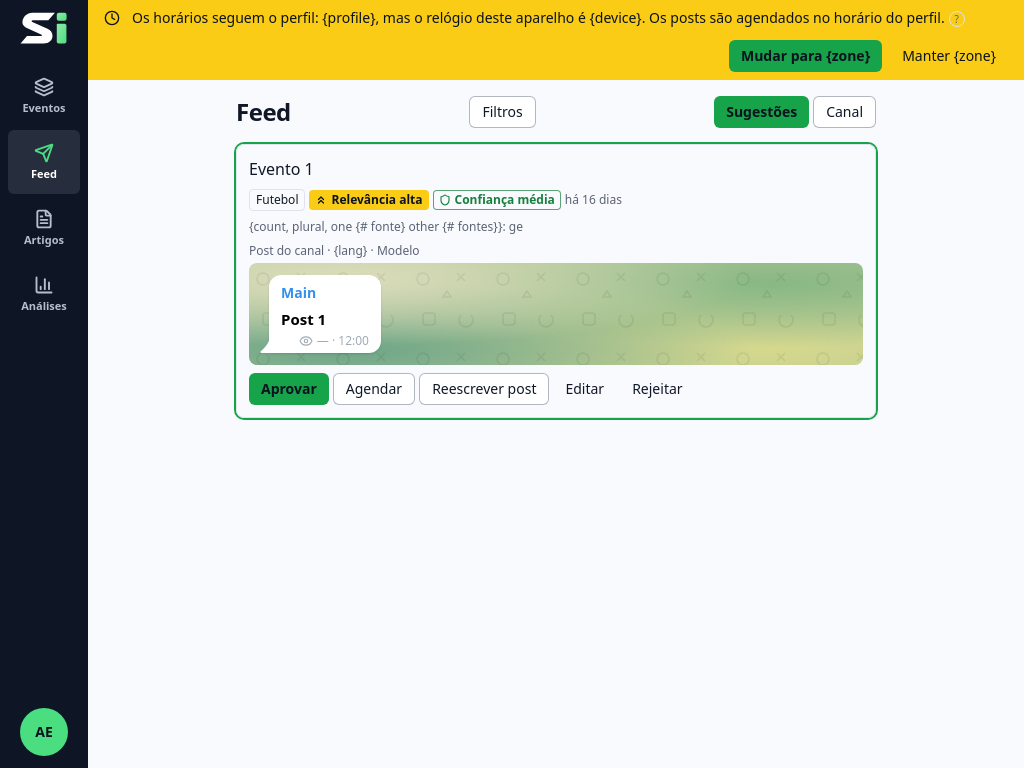
reject opens the dialog; tabs switch the search param; channel shows publish
Click the button "Rejeitar": (657, 389) [620,373,695,405]
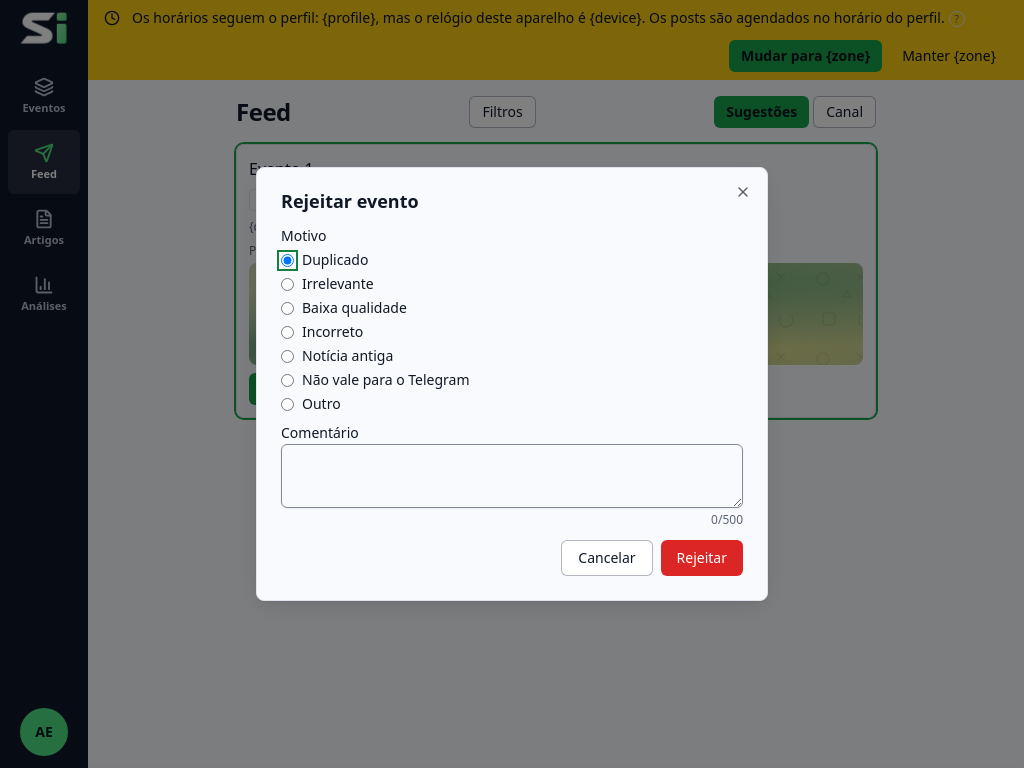
Check: the dialog is shown, box [256,167,768,601]
Press Escape
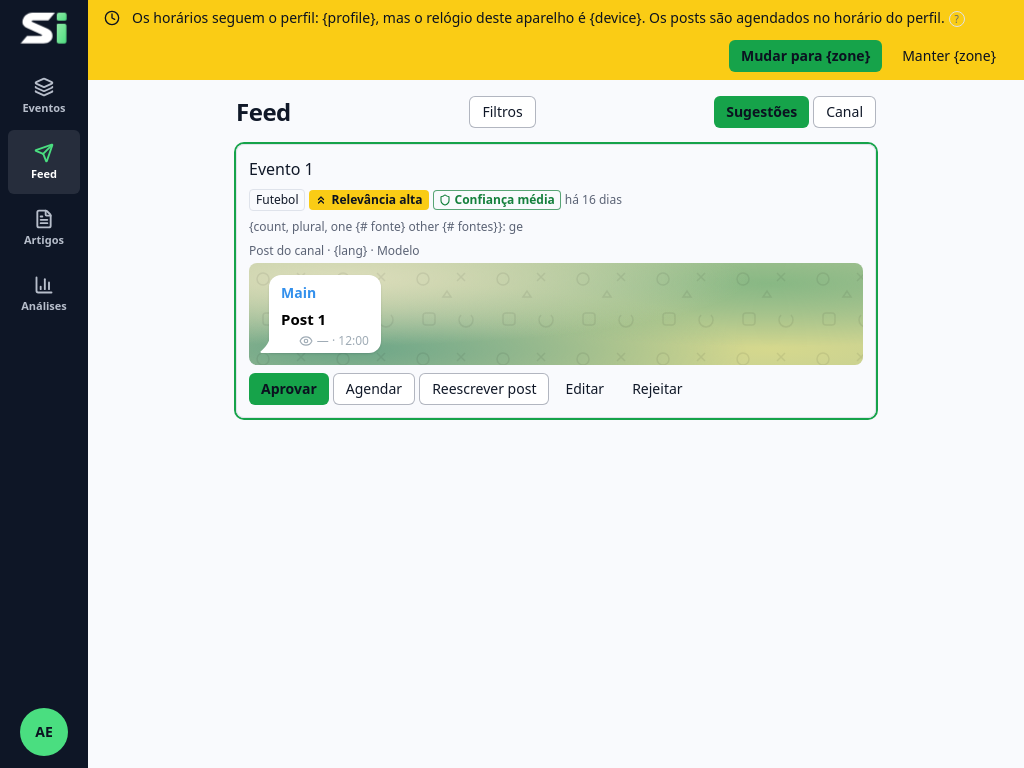
Click the tab "Canal": (845, 112) [813,96,876,128]
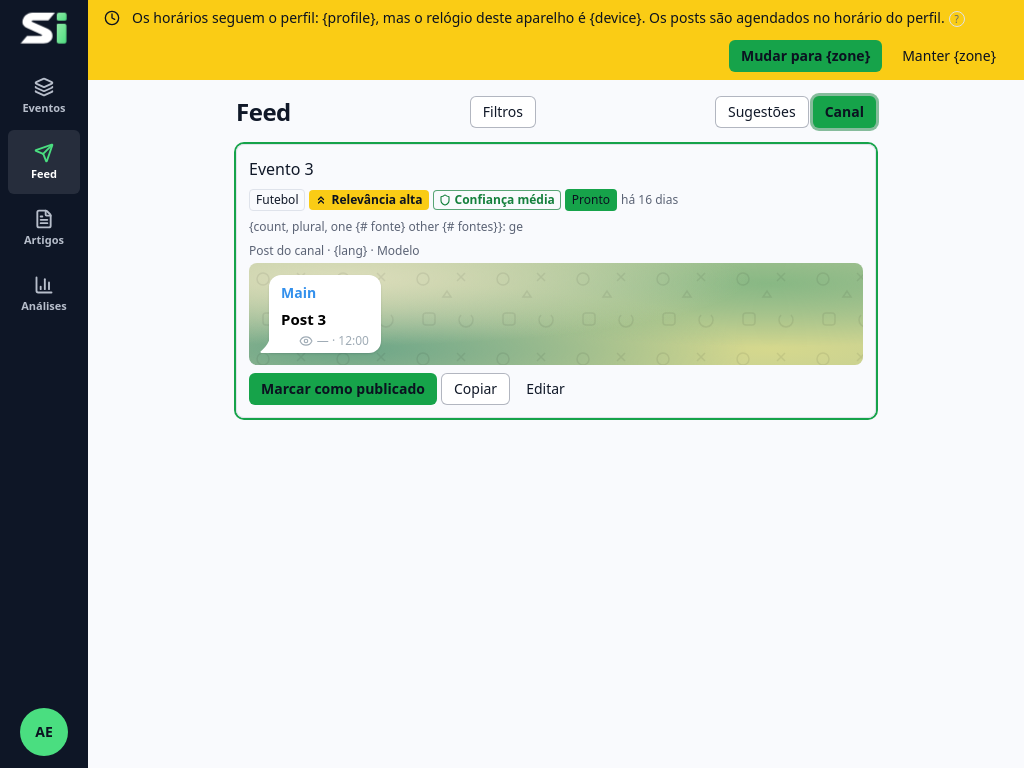
Check: the button "Marcar como publicado" is shown, box [249,373,437,405]
